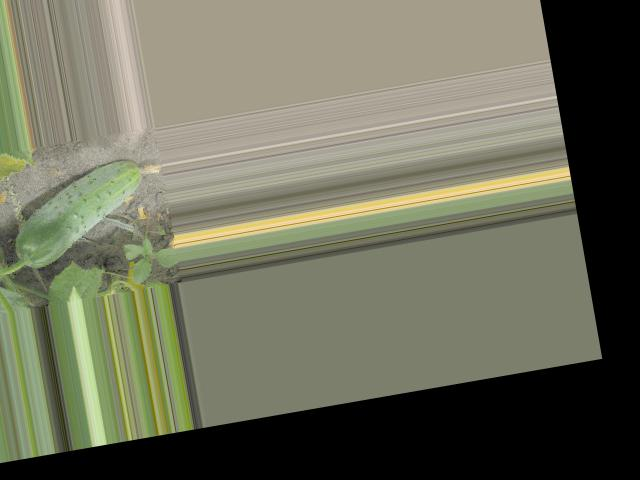cucumber: (4, 152, 174, 270)
